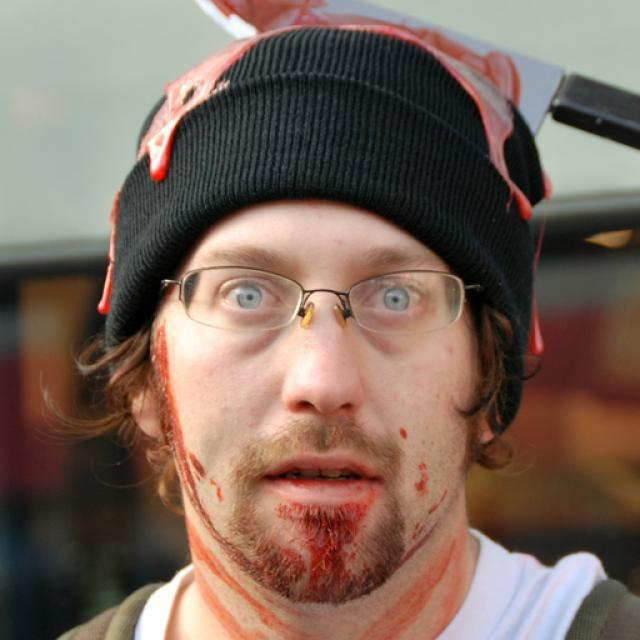surprise: (162, 185, 476, 605)
